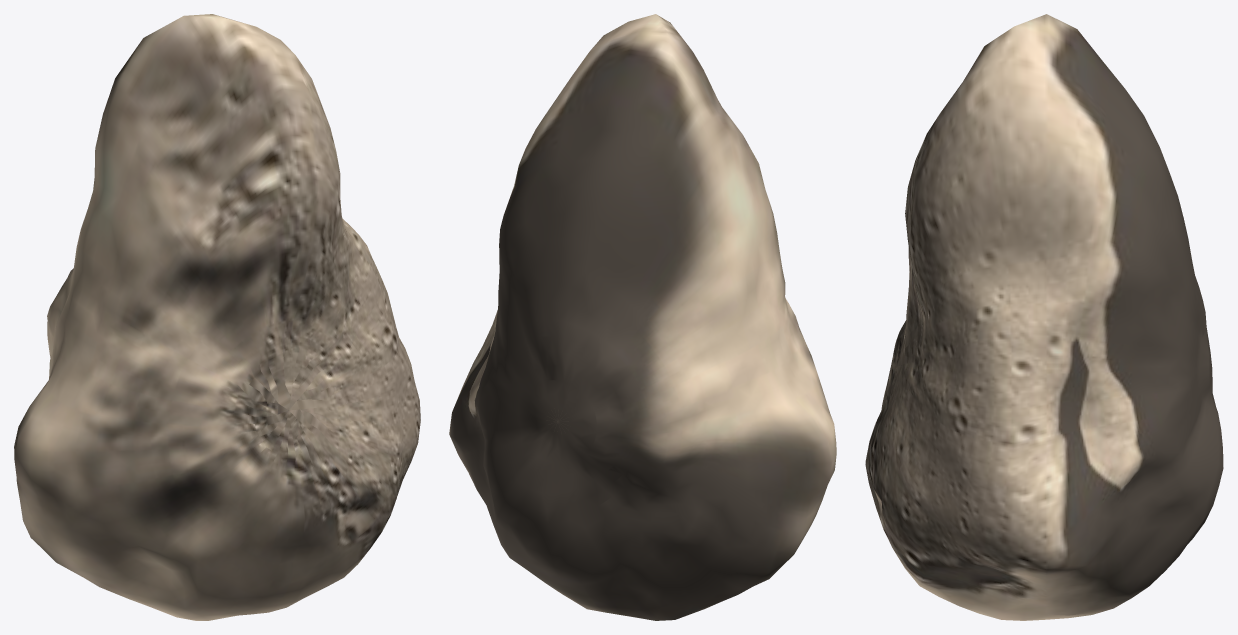
Rendered from 951gaspra_MLfix.obj.
3 views of the same model, side by side, from view 1: azimuth 30°, elevation 25°; view 2: azimuth 150°, elevation 25°; view 3: azimuth 270°, elevation 25° (orthographic). The views are drawn at different scales.
Bounding box in the file's own units: 12.51 × 18.24 × 10.17.
Materials: 1 (1 with a texture image).
